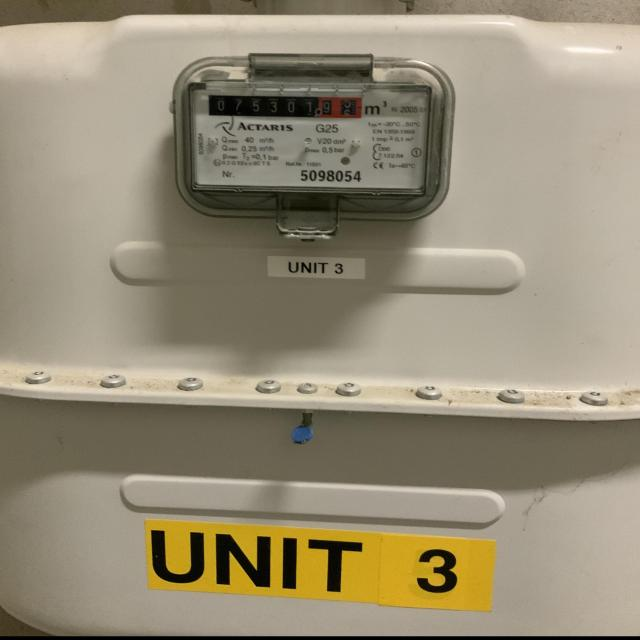gaz_meter: (186, 81, 431, 198)
indication: (208, 94, 362, 118)
